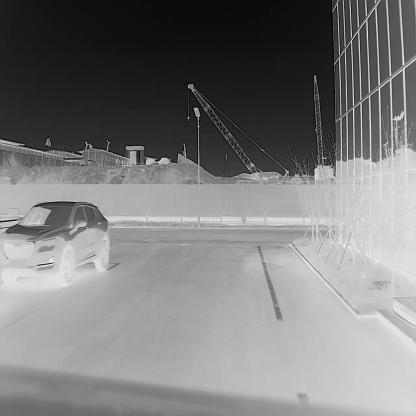car: (2, 199, 108, 287)
